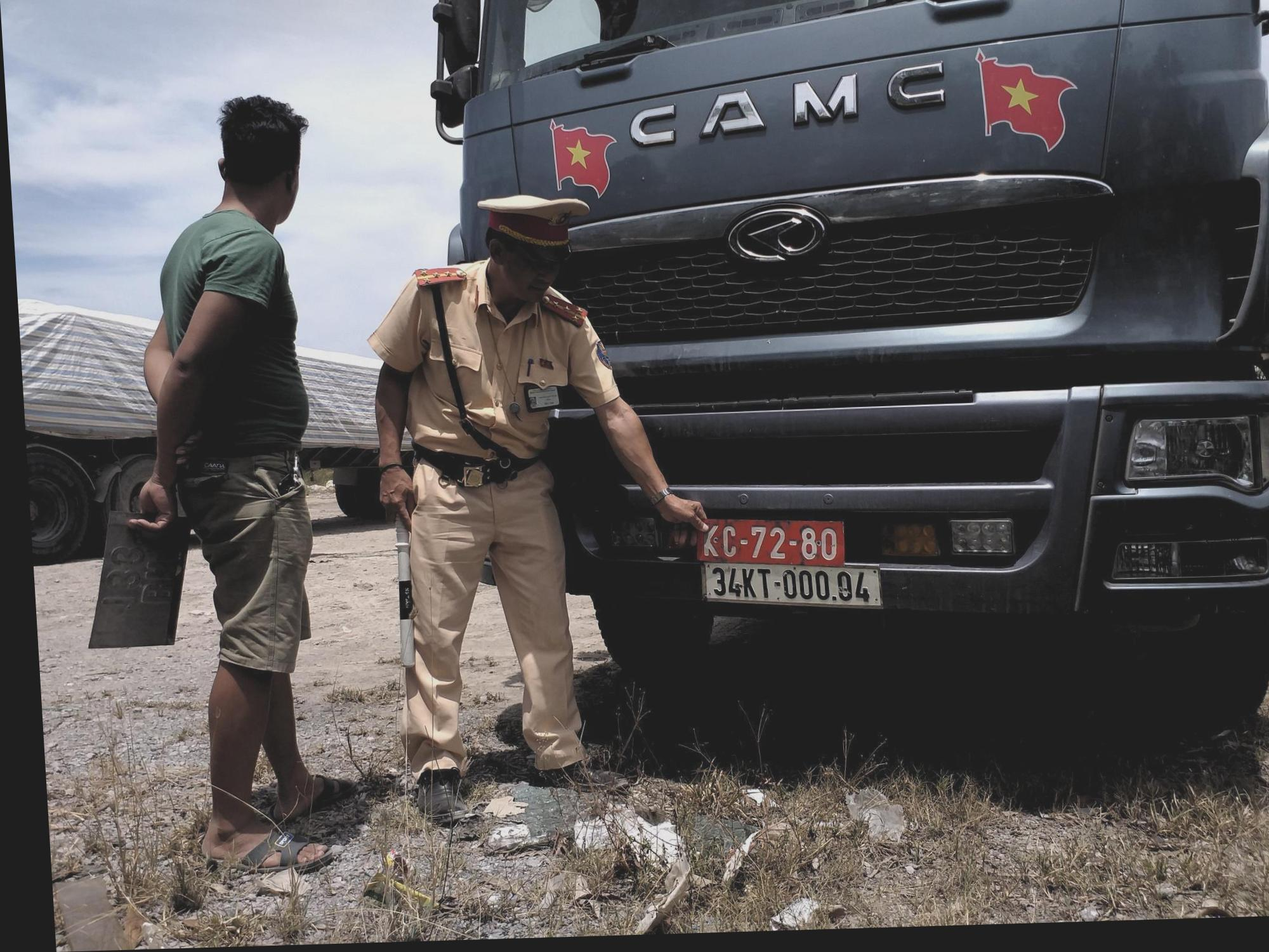License_Plate: (702, 555, 894, 616), (690, 514, 846, 569)
